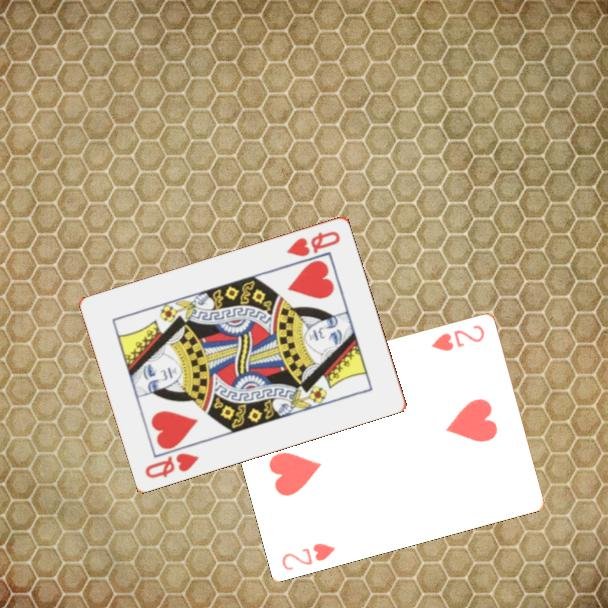h02: (427, 321, 488, 354), (279, 539, 338, 573)
h12: (141, 449, 202, 481), (283, 227, 343, 259)
